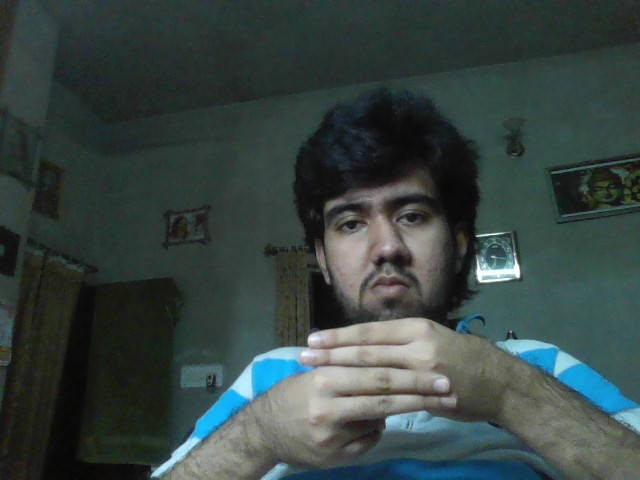Name: (263, 317, 496, 468)
